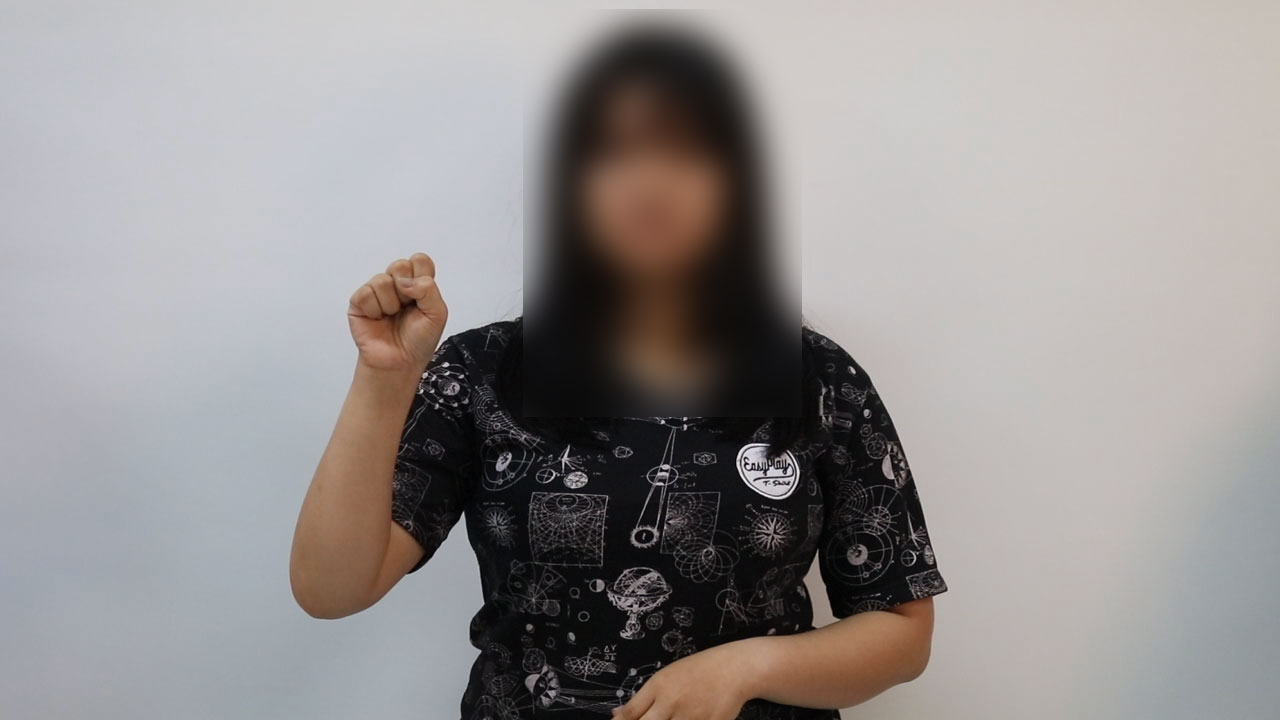sor: (326, 248, 456, 381)
